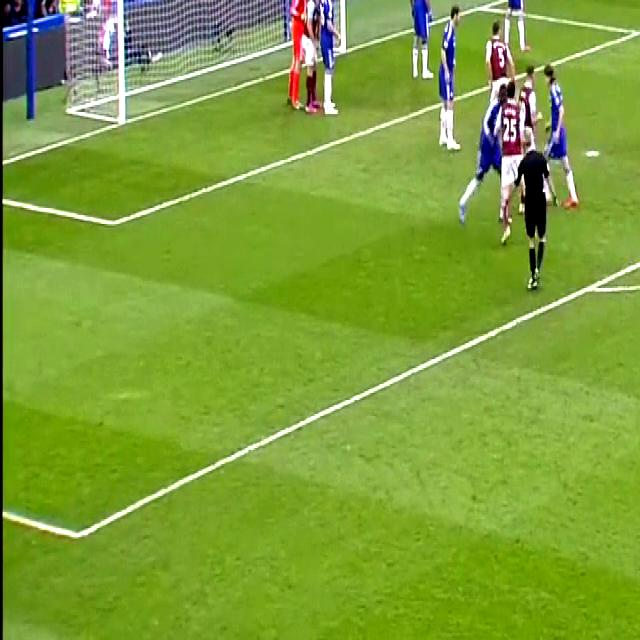goalkeeper: (281, 0, 316, 105)
referee: (517, 131, 559, 302)
soccer-player: (462, 76, 506, 240), (540, 57, 582, 224), (434, 0, 468, 157), (482, 5, 516, 153), (309, 0, 343, 114), (400, 0, 437, 76), (502, 0, 535, 60)
